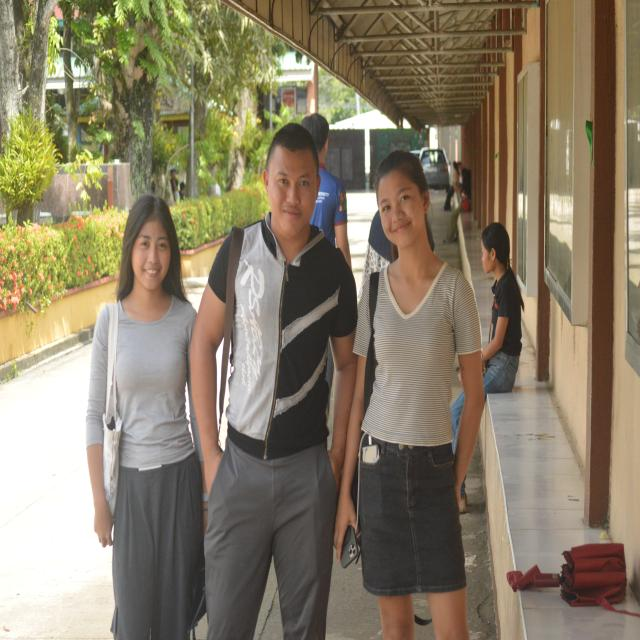person: (191, 124, 357, 639), (335, 151, 484, 639), (87, 195, 205, 639), (482, 223, 523, 395)
